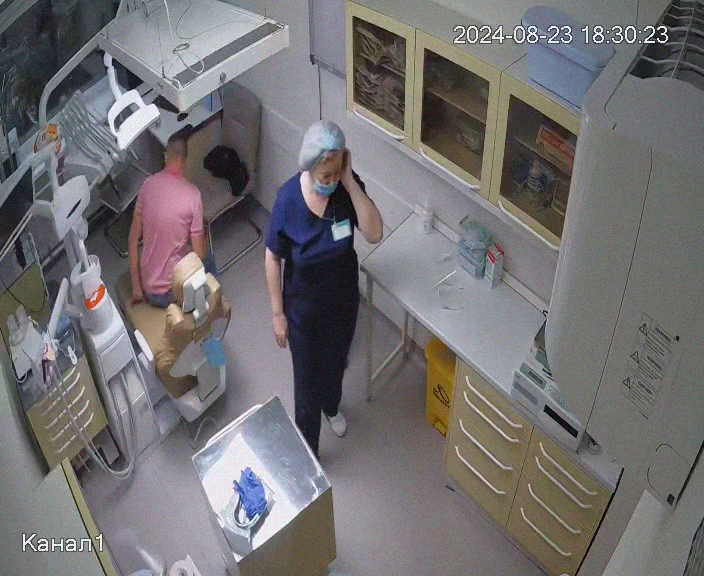Empty: (112, 252, 235, 425)
